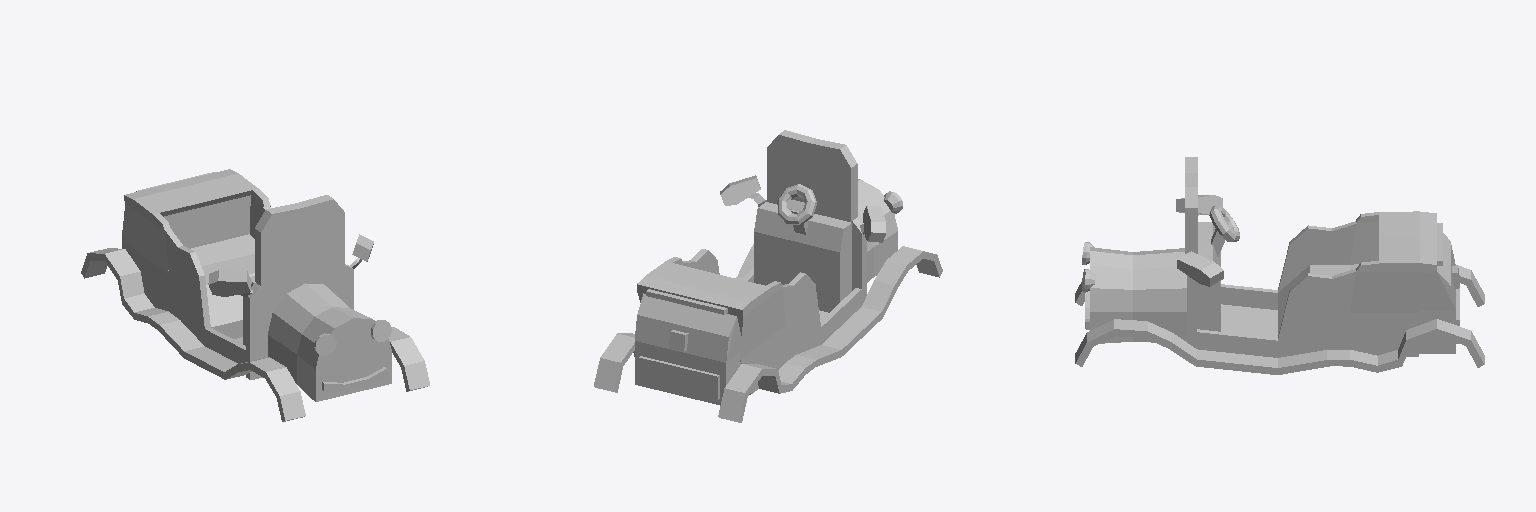
The model's file is Car_5.obj.
3 renders of one model, left to right at view 1: azimuth 30°, elevation 25°; view 2: azimuth 150°, elevation 25°; view 3: azimuth 270°, elevation 25°, orthographic.
Size of the model in its own units: 143 by 138 by 304.